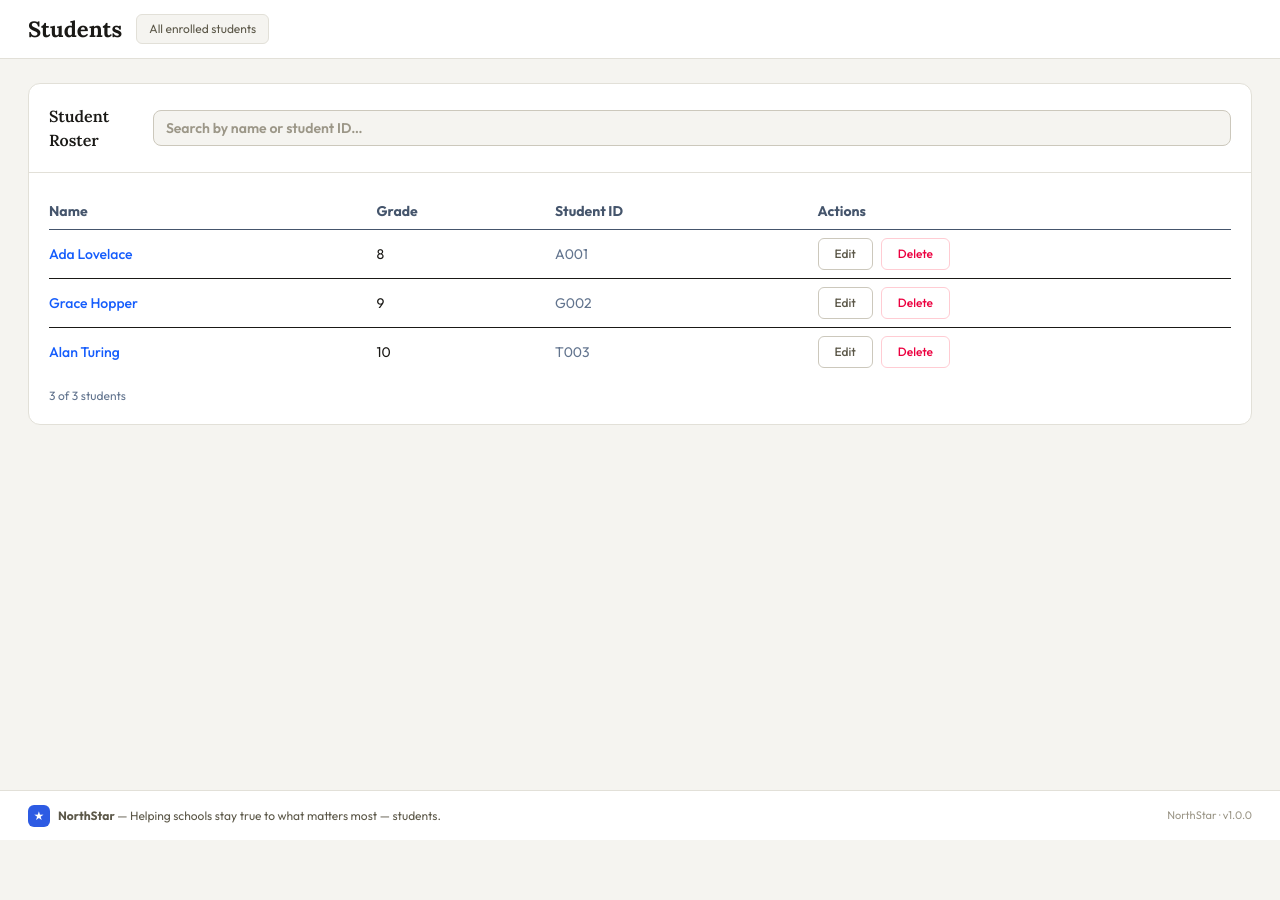
Test: StudentRosterPage › filters students by first name search
expect the link "Ada Lovelace" is shown: met, box [49, 245, 133, 263]
Type "ada" into the field with placeholder "Search by name or student ID…". click: (692, 128)
box: [153, 110, 1231, 146]
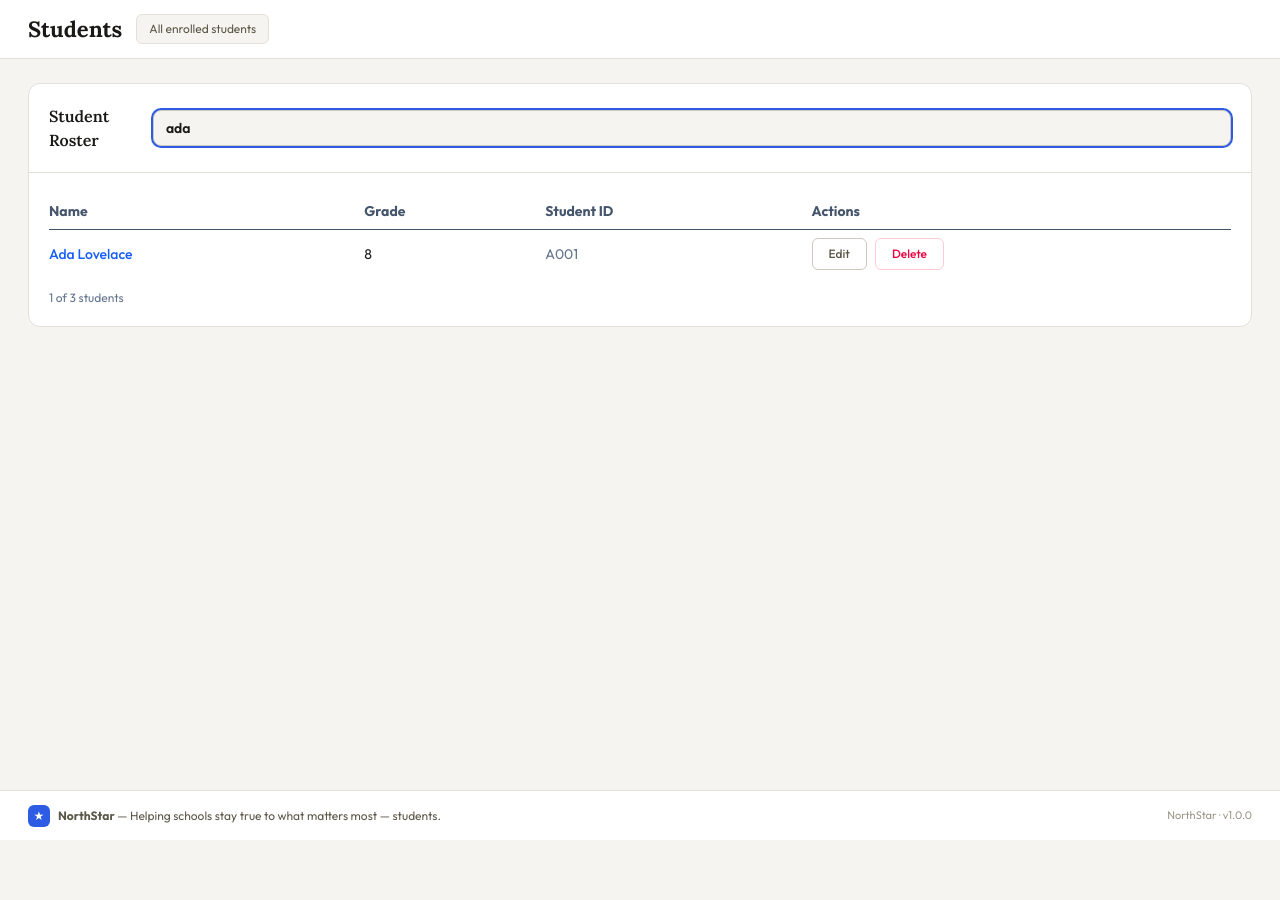
expect the link "Grace Hopper" is gone: met
expect the link "Alan Turing" is gone: met
expect the text "1 of 3 students" is shown: met, box [49, 290, 124, 305]
